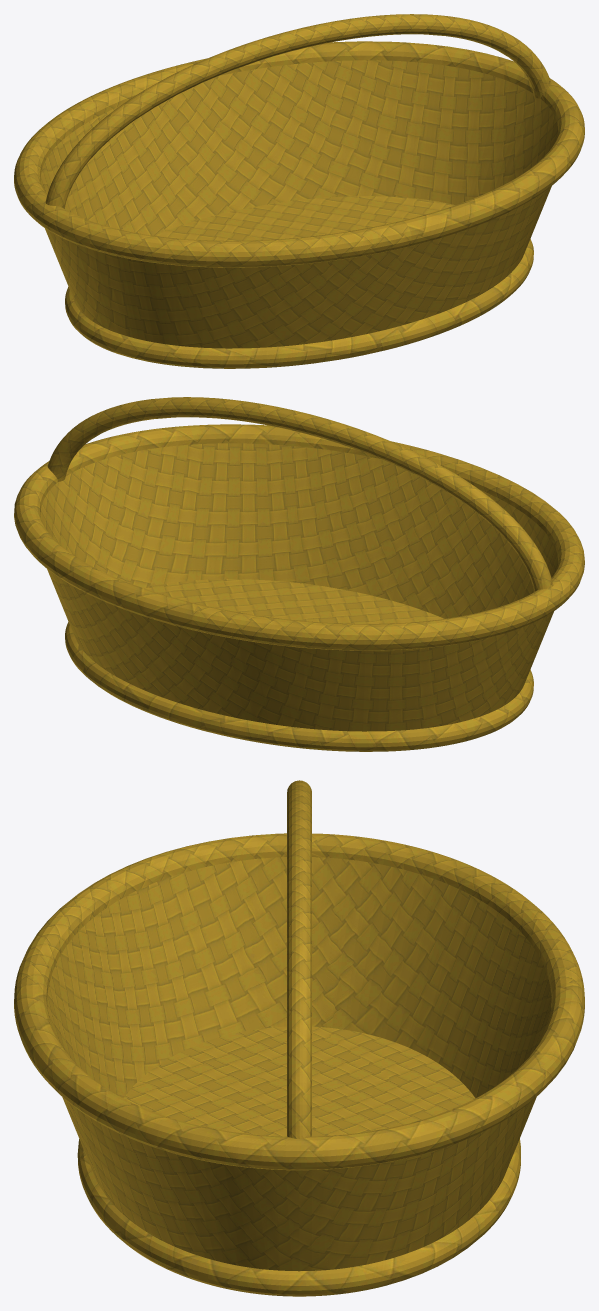
File: Basket.fbx
3 views of the same model, one above another, from view 1: azimuth 30°, elevation 25°; view 2: azimuth 150°, elevation 25°; view 3: azimuth 270°, elevation 25° (orthographic). The views are drawn at different scales.
Parts seen in each view (by area): view 1: Basket; view 2: Basket; view 3: Basket.
Boxes of the visible parts, bbox=[...] form: Basket: bbox=[14, 14, 584, 368]; Basket: bbox=[14, 397, 584, 751]; Basket: bbox=[14, 780, 584, 1296].
Bounding box in the file's own units: 13255 × 6289 × 10060.
Materials: 1 (1 with a texture image).
